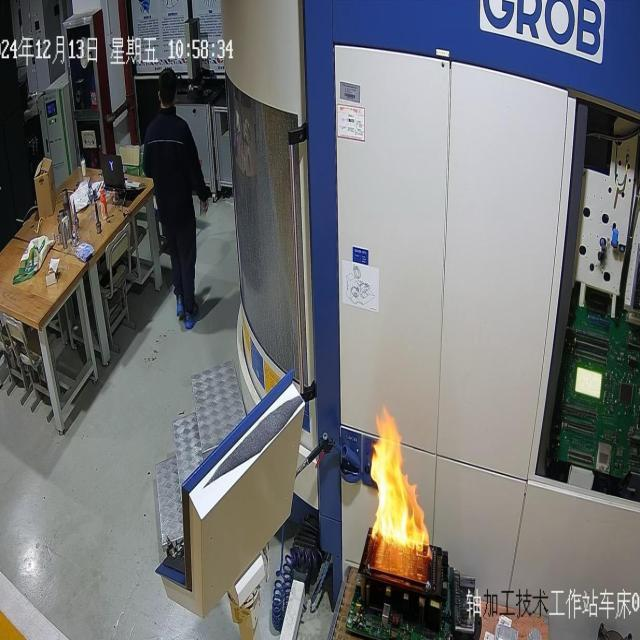smoke: (368, 402, 430, 556)
